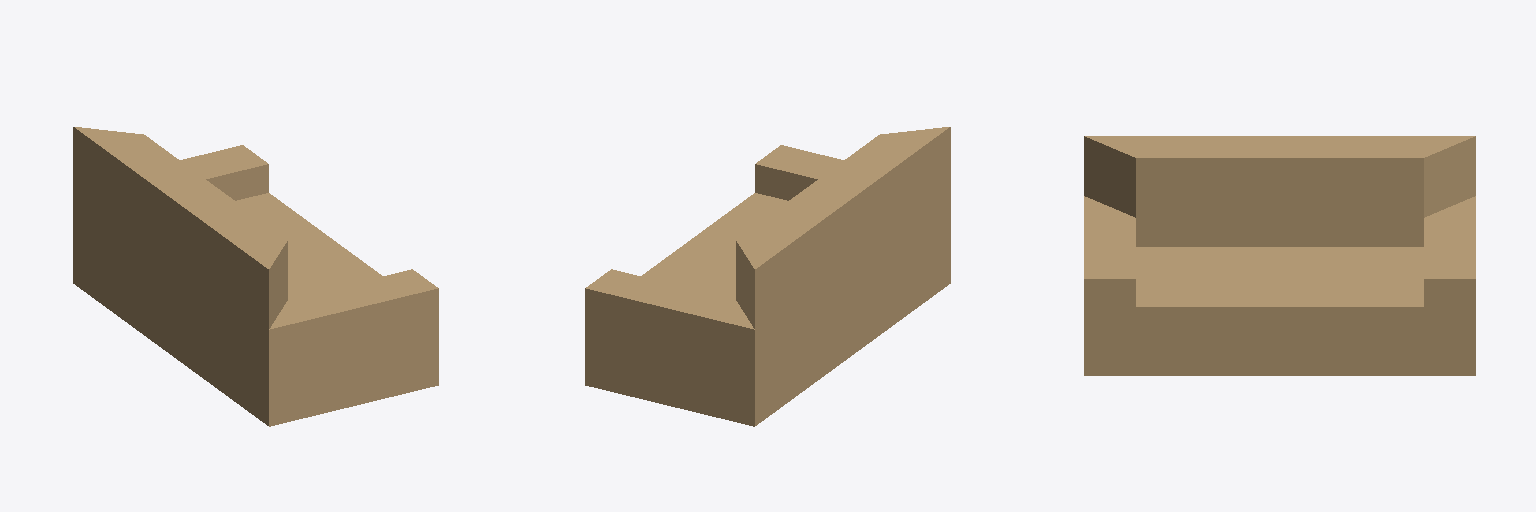
Rendered from HQ_couch.obj.
The picture shows the model from 3 angles: view 1: azimuth 30°, elevation 25°; view 2: azimuth 150°, elevation 25°; view 3: azimuth 270°, elevation 25°; orthographic projection.
Parts seen in each view (by area): view 1: HQ_couch; view 2: HQ_couch; view 3: HQ_couch.
Part boxes in pixels (x1,y1,x2,y2): HQ_couch: (73, 127, 438, 426); HQ_couch: (585, 127, 950, 426); HQ_couch: (1084, 136, 1475, 375).
Bounding box in the file's own units: 3.75 × 3.31 × 7.5.